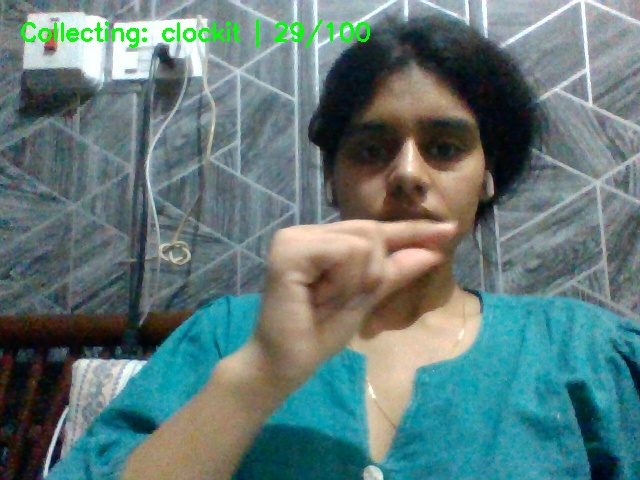clockit: (239, 211, 466, 375)
